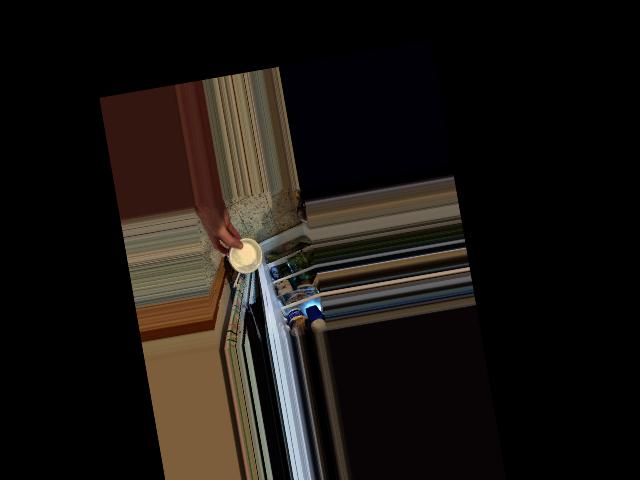cotage: (222, 235, 262, 274)
